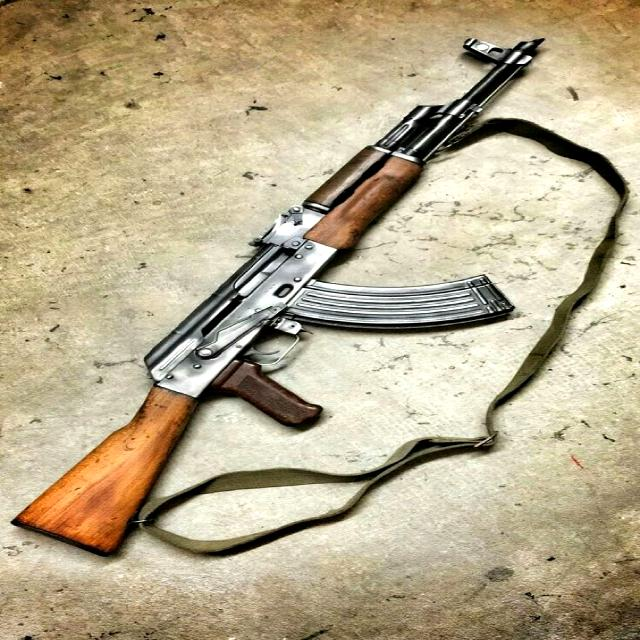ak: (11, 32, 619, 556)
